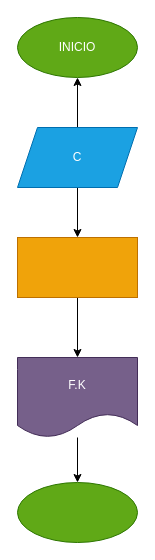
Some shapes in this 155 by 560 pixel diagram are drawn without their labels. Here are the shapes that lost their labels. From the top down, the centre of each, then its label:
the point at 77,267: K=C + 273.15 F= 18°C + 32
the point at 77,512: FINAL
